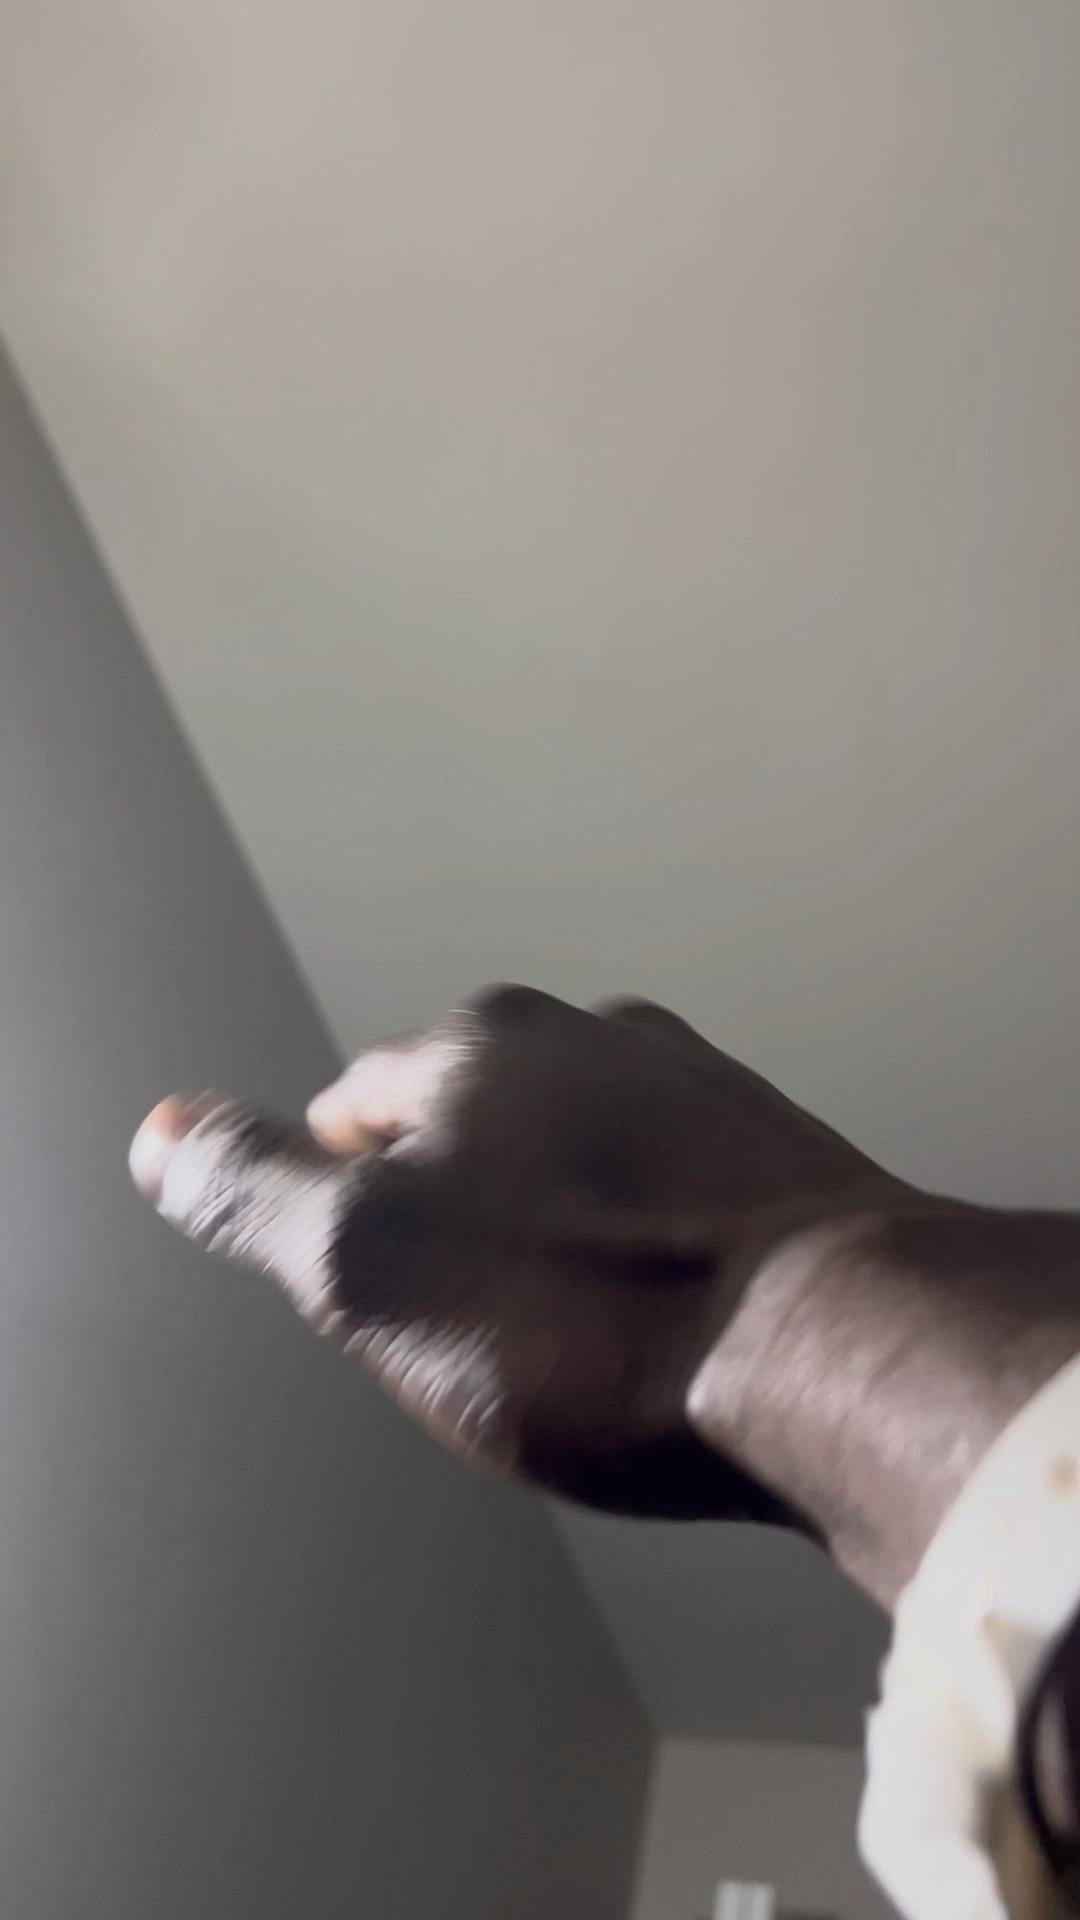Paper: (124, 973, 848, 1544)
